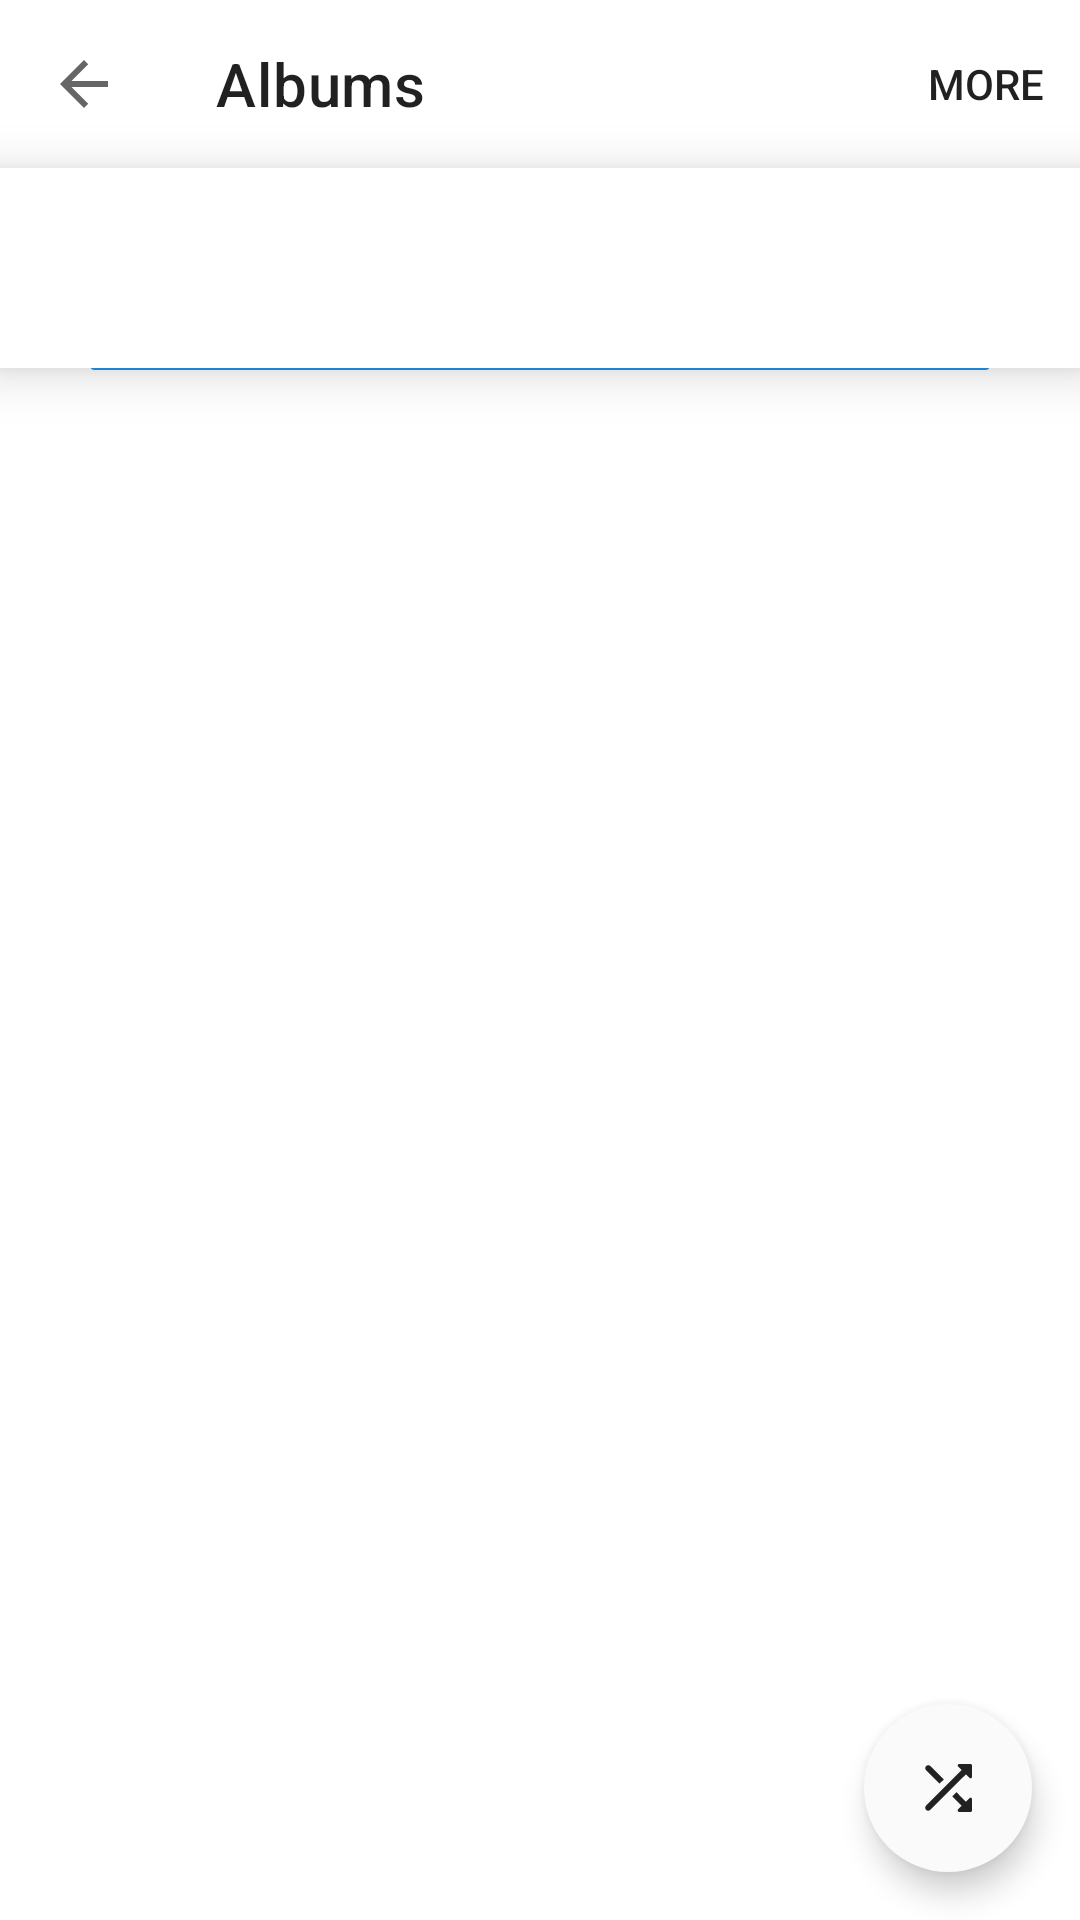

Where icons sit on this 1080w x 1920h app screen, as (x1, y1, x2, y2):
controls shuffle: (869, 1764, 1032, 1872)
